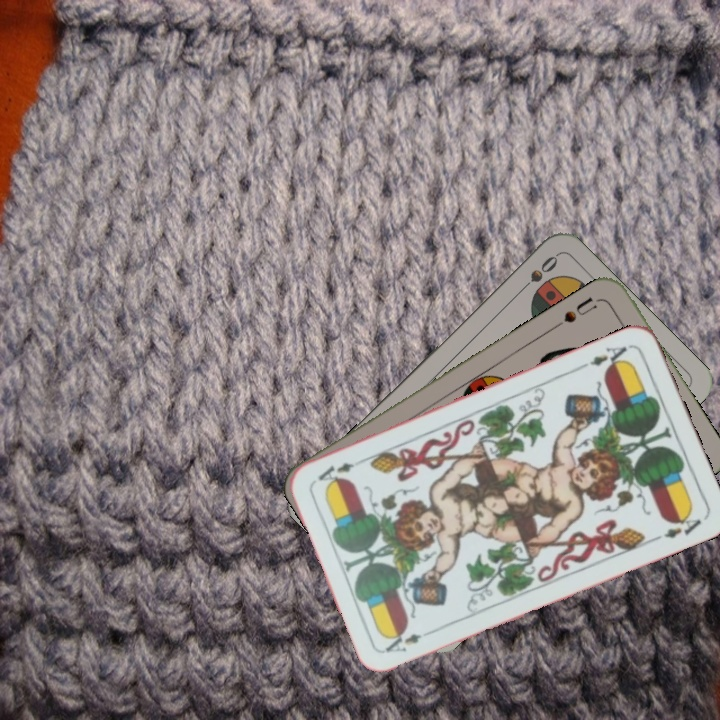EA: (380, 625, 438, 656), (577, 342, 631, 373)
SO: (513, 251, 561, 297)
SU: (551, 292, 599, 331)
